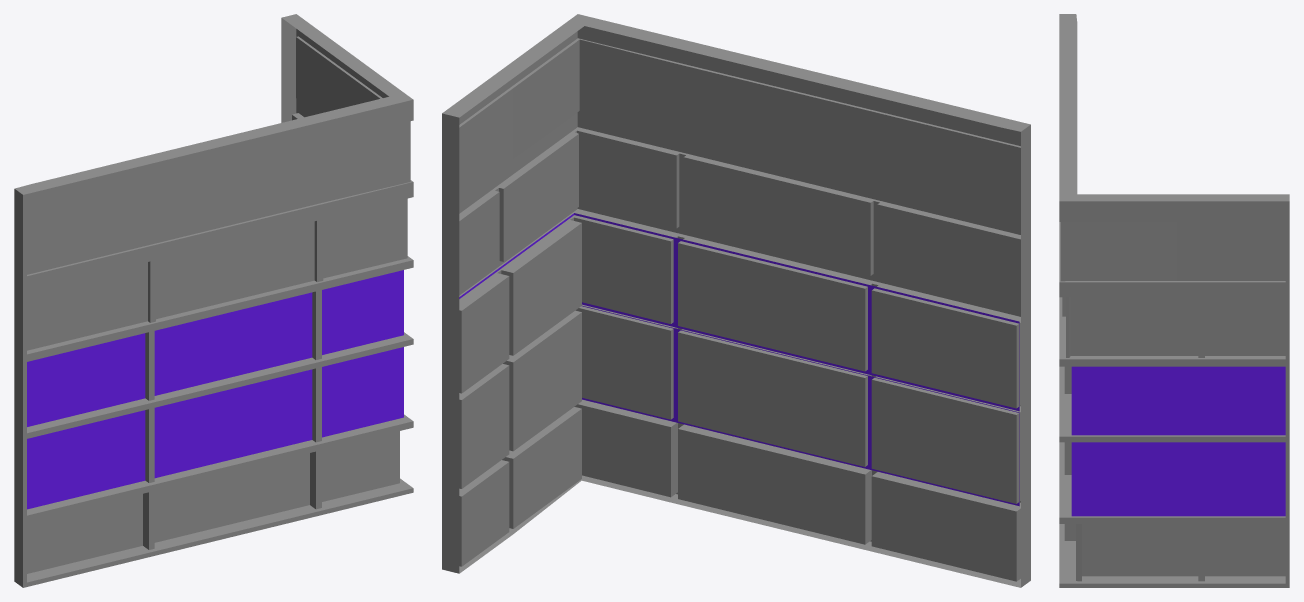
The model's file is Building_Tile_Corner_2500x2500_B.FBX.
The picture shows the model from 3 angles, left to right: view 1: azimuth 30°, elevation 25°; view 2: azimuth 150°, elevation 25°; view 3: azimuth 270°, elevation 25°; orthographic projection. The views are drawn at different scales.
Visible parts, largest first — view 1: Geometry_Building_Tile_Corner_2500x2500_B_LOD00; view 2: Geometry_Building_Tile_Corner_2500x2500_B_LOD00; view 3: Geometry_Building_Tile_Corner_2500x2500_B_LOD00.
Part boxes in pixels (x1,y1,x2,y2): Geometry_Building_Tile_Corner_2500x2500_B_LOD00: (14,14,413,587); Geometry_Building_Tile_Corner_2500x2500_B_LOD00: (442,14,1030,587); Geometry_Building_Tile_Corner_2500x2500_B_LOD00: (1059,14,1289,587).
Size of what is drawn, in the model's own units: 2599 by 2500 by 1350.
